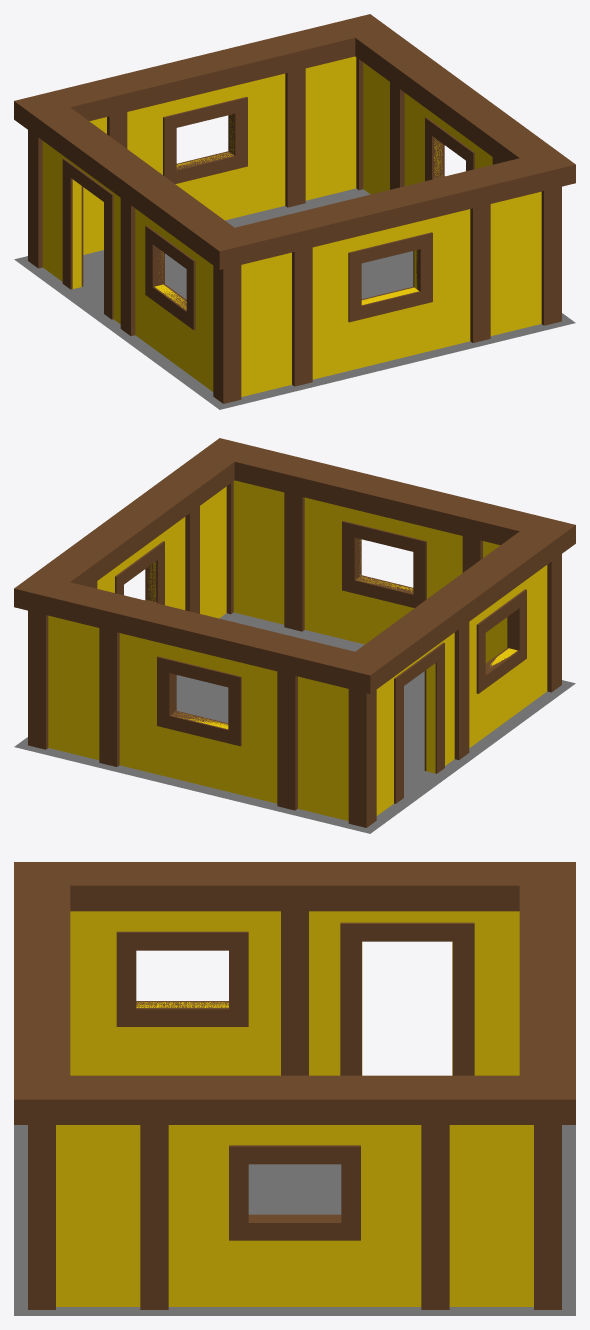
Rendered from house_eg.fbx.
The picture shows the model from 3 angles, top to bottom: view 1: azimuth 30°, elevation 25°; view 2: azimuth 150°, elevation 25°; view 3: azimuth 270°, elevation 25°; orthographic projection. The views are drawn at different scales.
Parts seen in each view (by area): view 1: house; view 2: house; view 3: house.
Boxes of the visible parts, left/top/right/bottom form: house: left=14, top=14, right=575, bottom=409; house: left=14, top=438, right=575, bottom=833; house: left=14, top=862, right=575, bottom=1315.
Size of the model in its own units: 2000 by 850 by 2000.
